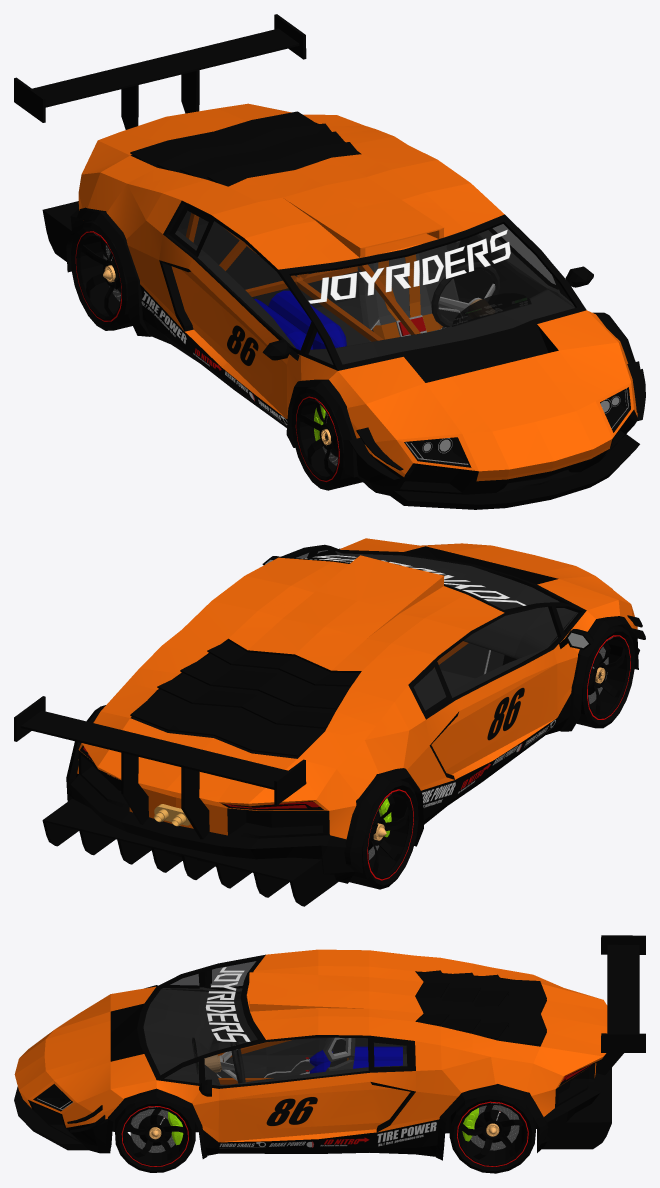
File: ARMR_Assign1.glb
3 renders of one model, top to bottom at view 1: azimuth 30°, elevation 25°; view 2: azimuth 150°, elevation 25°; view 3: azimuth 270°, elevation 25°, orthographic. The views are drawn at different scales.
Visible parts, largest first — view 1: Super car.Body, S.Wheel.Bk.R, S.Wheel.Ft.R, Steering wheel; view 2: Super car.Body, S.Wheel.Bk.R, S.Wheel.Ft.R; view 3: Super car.Body, S.Wheel.Bk.L, S.Wheel.Ft.L, Steering wheel.
Boxes of the visible parts, bbox=[...] form: Super car.Body: bbox=[14, 14, 645, 509]; S.Wheel.Bk.R: bbox=[71, 220, 132, 330]; S.Wheel.Ft.R: bbox=[291, 387, 362, 490]; Steering wheel: bbox=[431, 262, 500, 327]; Super car.Body: bbox=[14, 538, 645, 906]; S.Wheel.Bk.R: bbox=[349, 780, 418, 889]; S.Wheel.Ft.R: bbox=[576, 625, 634, 728]; Super car.Body: bbox=[14, 935, 645, 1160]; S.Wheel.Bk.L: bbox=[449, 1093, 535, 1173]; S.Wheel.Ft.L: bbox=[115, 1097, 195, 1172]; Steering wheel: bbox=[204, 1032, 245, 1083].
Size of the model in its own units: 2.72 by 1.37 by 5.88.
Materials: 38 (9 with a texture image).
